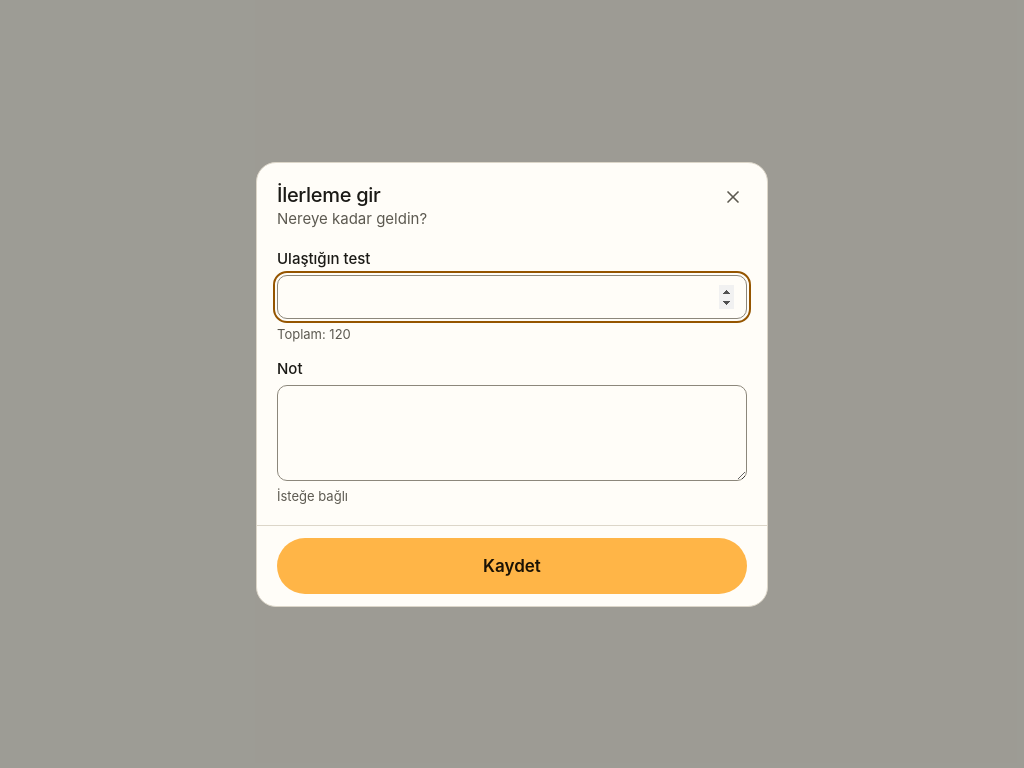
it: ProgressSheet › beklenmeyen hatada kullanıcıya mesaj gösterir
Type "5" into the number field labelled "Ulaştığın test".
click(512, 296); type("5")  # box [277,274,747,318]
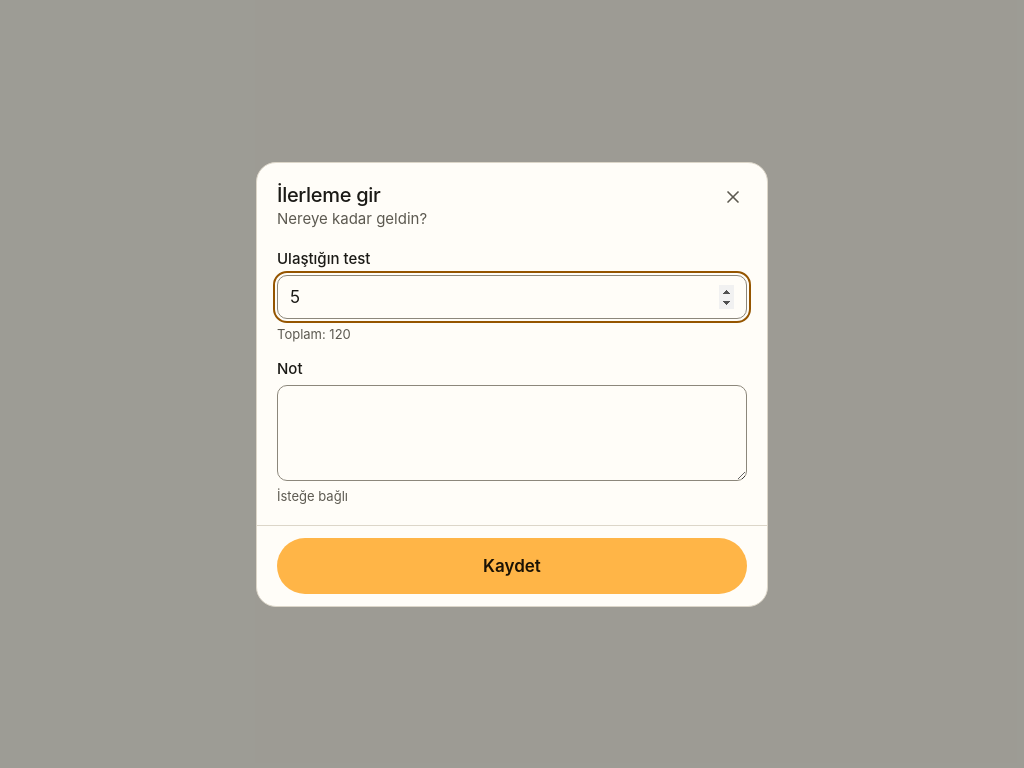
Click the button "Kaydet".
click(512, 566)  # box [277,538,747,594]
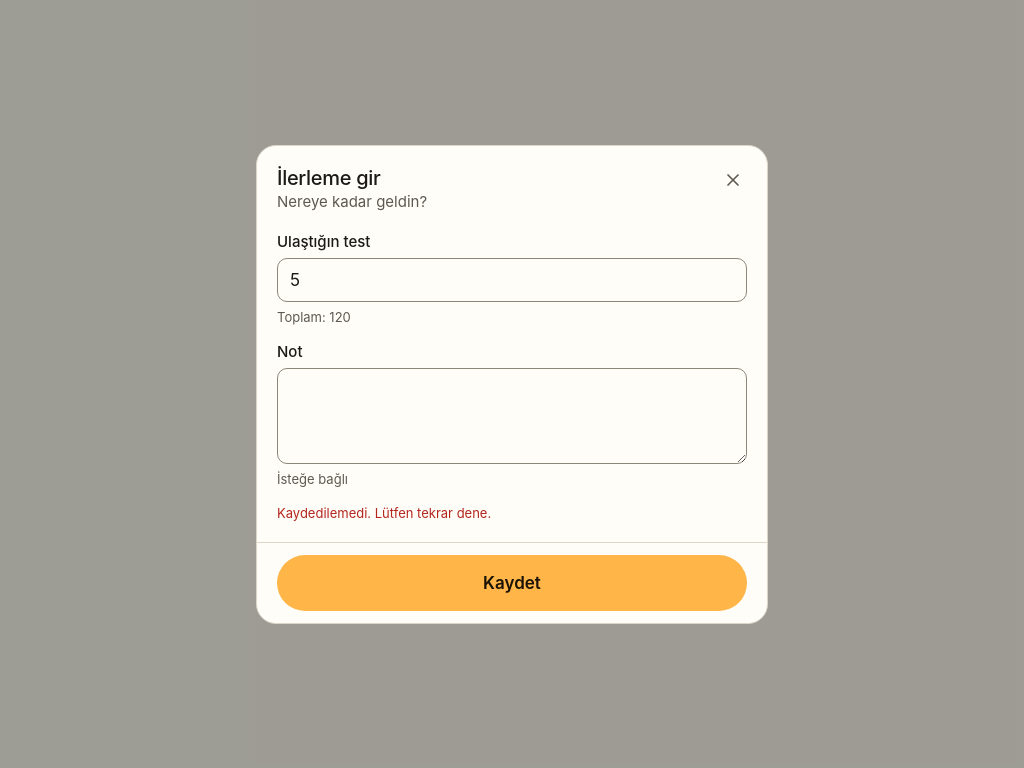
Result: the message shows "Kaydedilemedi" at [277,504,491,520]
